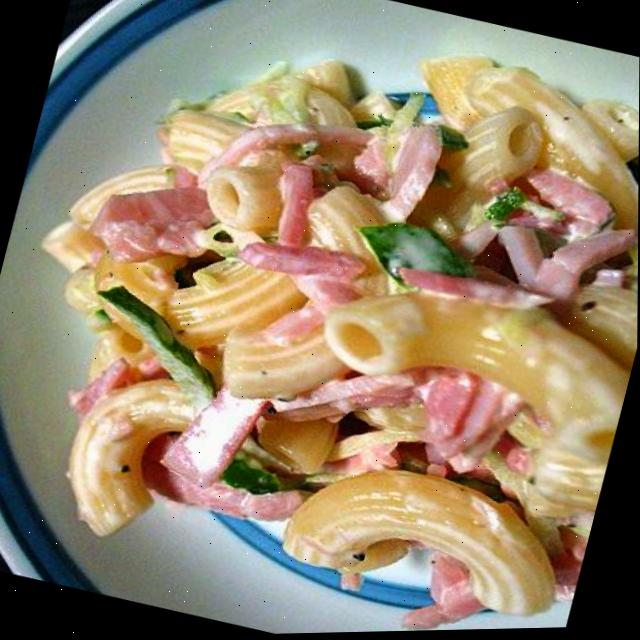蔬菜料理: (0, 24, 640, 640)
